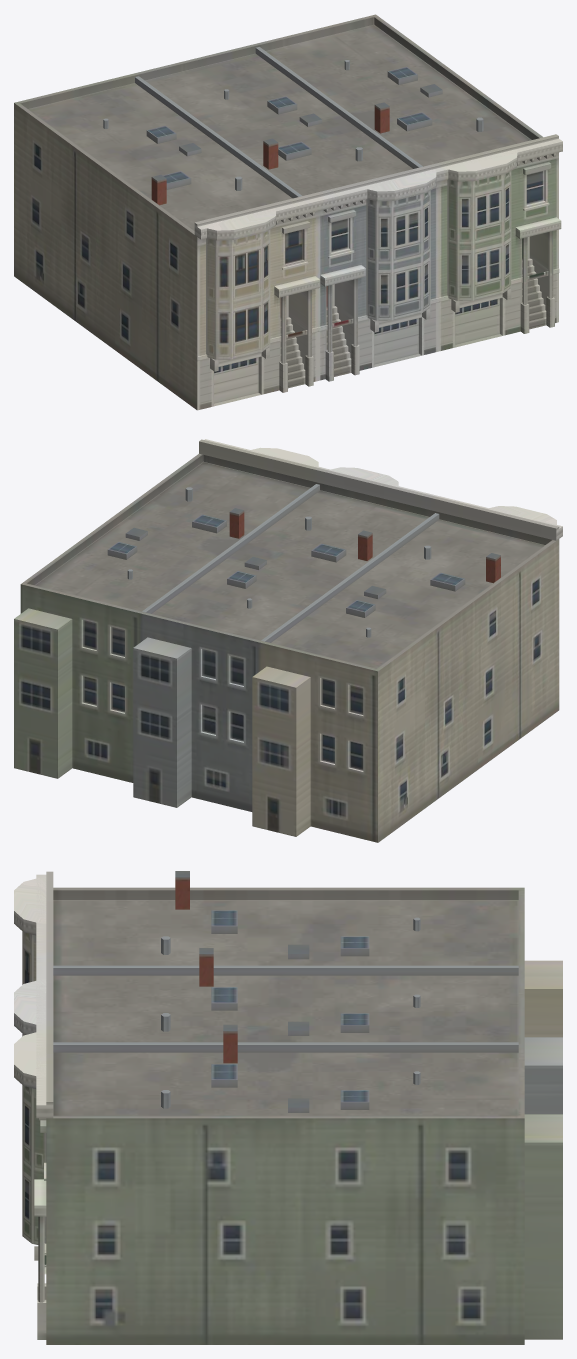
Rendered from sf_victorian_c.glb.
3 views of the same model, one above another, from view 1: azimuth 30°, elevation 25°; view 2: azimuth 150°, elevation 25°; view 3: azimuth 270°, elevation 25° (orthographic). The views are drawn at different scales.
Visible parts, largest first — view 1: sf_victorian_c; view 2: sf_victorian_c; view 3: sf_victorian_c.
Boxes of the visible parts, x1=… form: sf_victorian_c: x1=14, y1=14, x2=562, y2=410; sf_victorian_c: x1=14, y1=439, x2=562, y2=842; sf_victorian_c: x1=14, y1=871, x2=562, y2=1344.
Bounding box in the file's own units: 22.8 × 11.5 × 22.95.
Materials: 1 (1 with a texture image).
